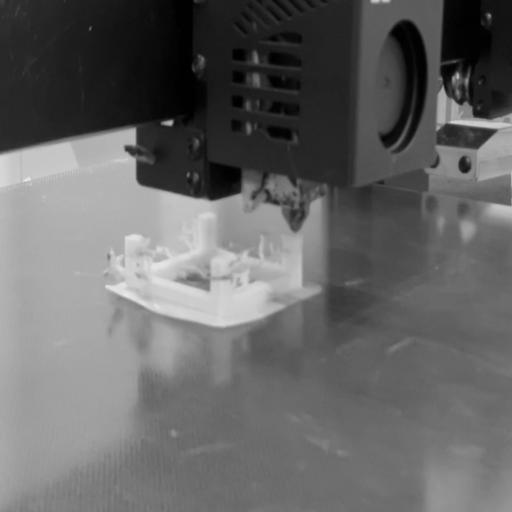spaghetti_and_stringing: (106, 217, 311, 294)
warp: (94, 286, 228, 342)
